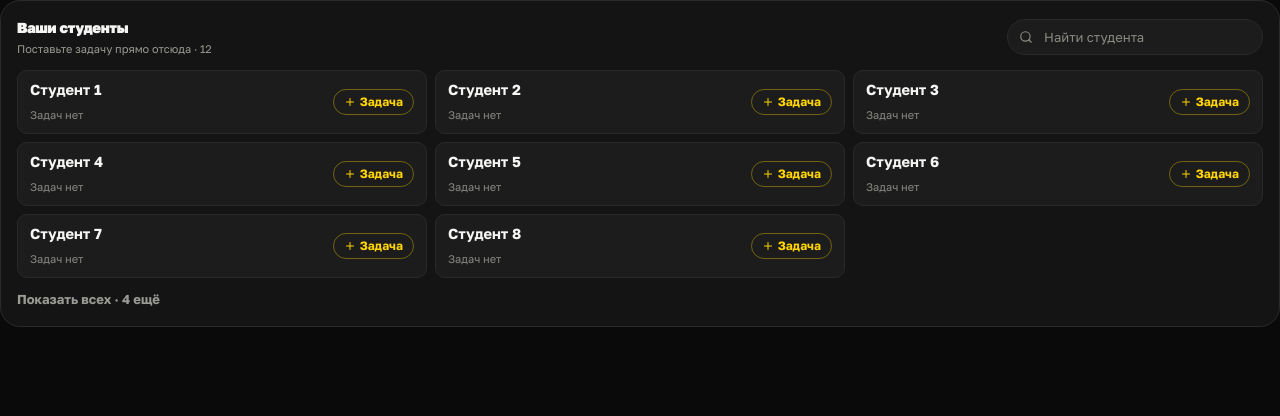
TaskStudentsPanel › больше 8 студентов: свёрнуто, поиск и «показать всех»
The width and height of the screenshot is (1280, 416).
Expected: the text "Студент 12" is not shown
Click the button "Показать всех · 4 ещё" at coordinates (88, 298), box left=17, top=290, right=160, bottom=308
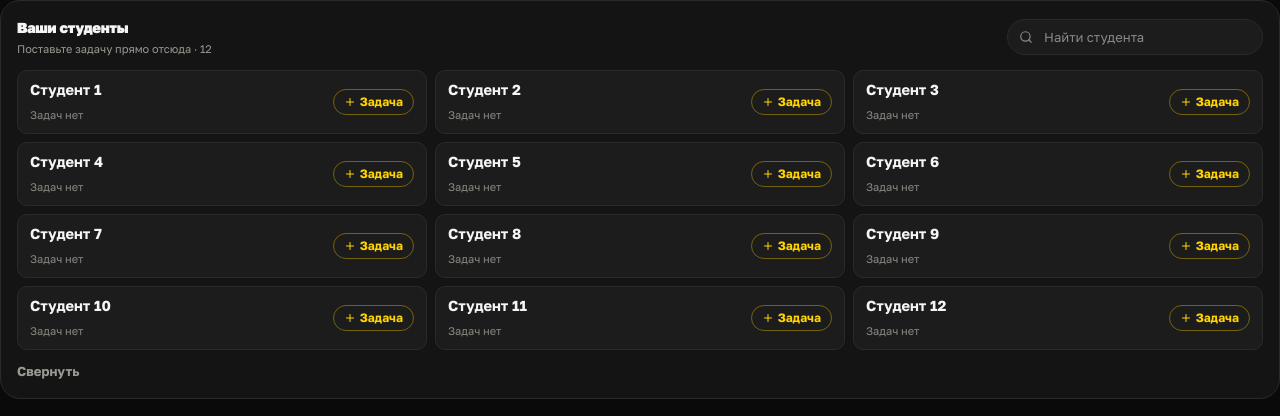
Result: the link "Студент 12" is shown at left=866, top=294, right=946, bottom=316
Type "студент 11" into the field labelled "Найти студента" at coordinates (1135, 37), box left=1007, top=19, right=1263, bottom=55
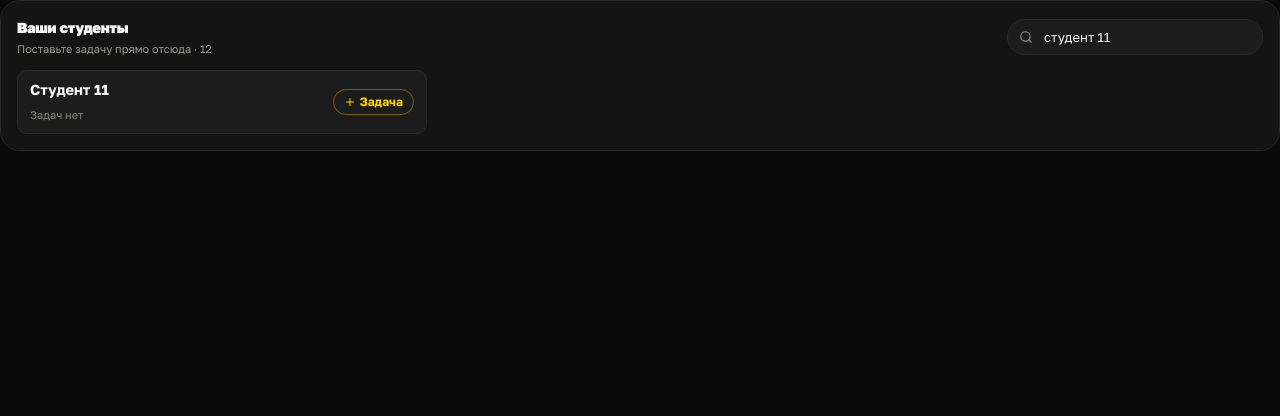
Result: the link "Студент 11" is shown at left=30, top=78, right=109, bottom=100
Result: the link "Студент 2" is gone
